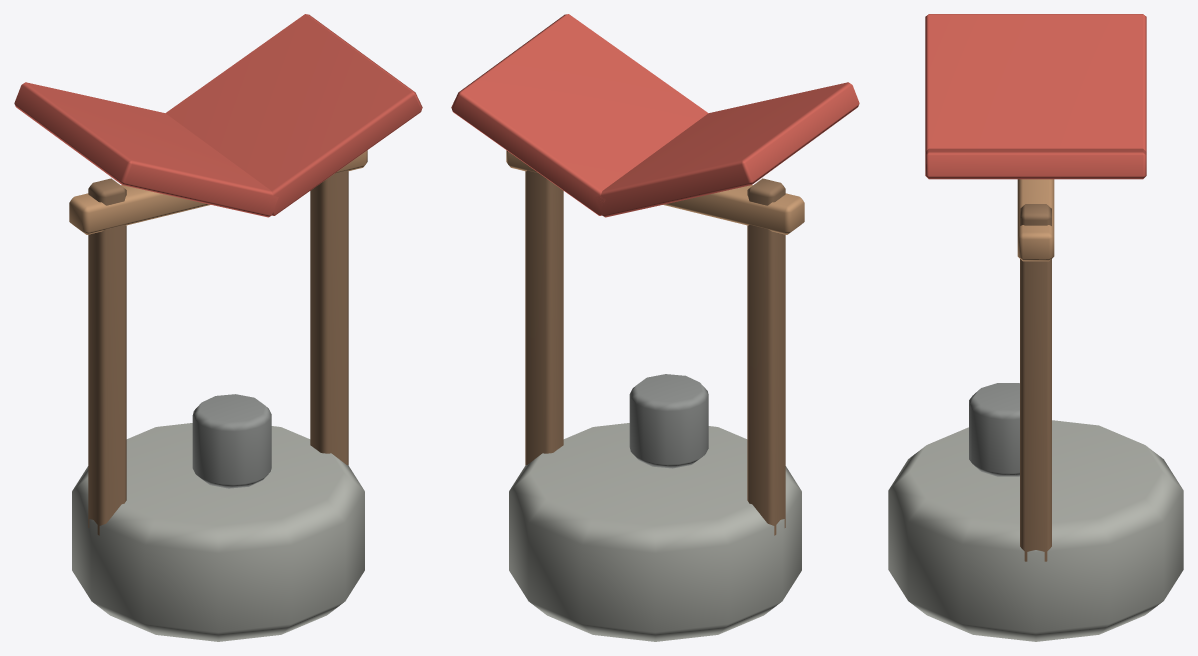
File: MYB96_VillageWellMarker.fbx
3 views of the same model, side by side, from view 1: azimuth 30°, elevation 25°; view 2: azimuth 150°, elevation 25°; view 3: azimuth 270°, elevation 25° (orthographic).
Parts seen in each view (by area): view 1: stone_ring, roof_right, roof_left, roof_post_-0.28, roof_post_0.28, bucket, roof_beam; view 2: stone_ring, roof_right, roof_left, roof_post_-0.28, roof_post_0.28, bucket, roof_beam; view 3: stone_ring, roof_left, roof_post_0.28, roof_right, bucket, roof_beam.
Boxes of the visible parts, x1,y1,x2,y2 form: stone_ring: [72, 423, 364, 641]; roof_right: [165, 14, 422, 215]; roof_left: [14, 82, 278, 217]; roof_post_-0.28: [88, 178, 126, 535]; roof_post_0.28: [310, 170, 348, 465]; bucket: [192, 394, 271, 488]; roof_beam: [69, 150, 367, 234]; stone_ring: [509, 423, 801, 641]; roof_right: [451, 14, 708, 215]; roof_left: [595, 82, 859, 217]; roof_post_-0.28: [747, 178, 785, 535]; roof_post_0.28: [525, 170, 563, 465]; bucket: [629, 374, 708, 468]; roof_beam: [506, 150, 804, 234]; stone_ring: [888, 420, 1183, 641]; roof_left: [925, 14, 1146, 151]; roof_post_0.28: [1020, 204, 1051, 561]; roof_right: [925, 148, 1146, 179]; bucket: [969, 383, 1019, 476]; roof_beam: [1017, 179, 1054, 261].
Bounding box in the file's own units: 76.16 × 121 × 64.
